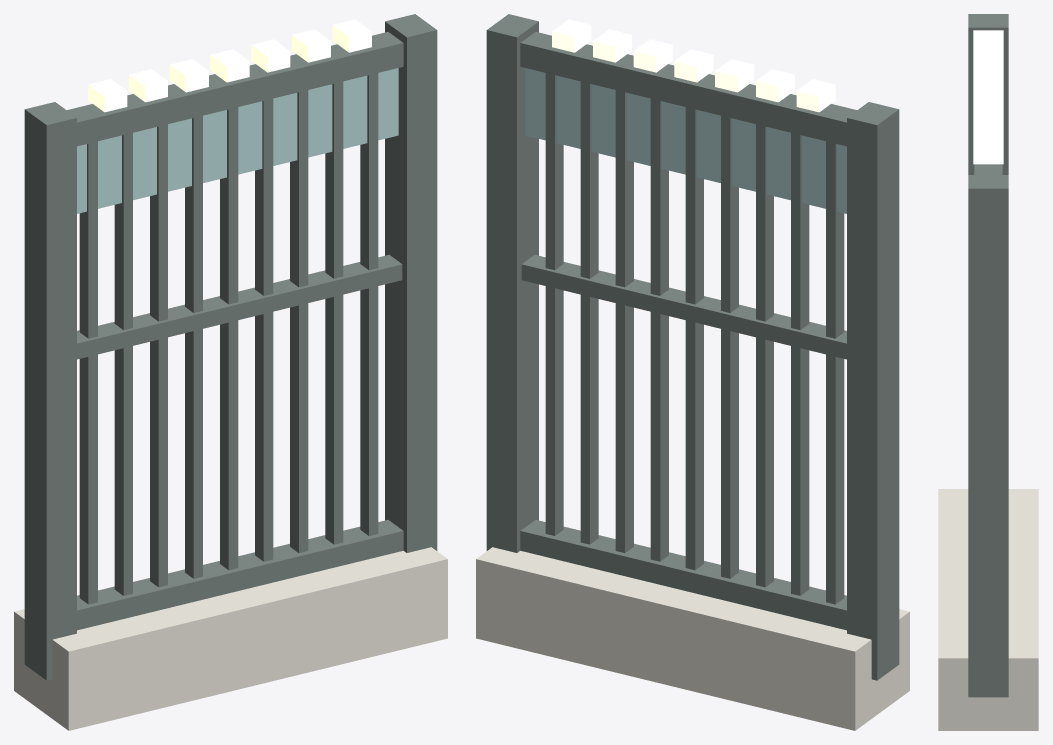
File: Fence_Straight_2m.fbx
3 views of the same model, side by side, from view 1: azimuth 30°, elevation 25°; view 2: azimuth 150°, elevation 25°; view 3: azimuth 270°, elevation 25° (orthographic). The views are drawn at different scales.
Parts seen in each view (by area): view 1: Fence_Footing, Post_L, Post_R, Teal_Viewing_Strip, Rail_Top, Rail_Bot, Rail_Mid, Vertical_Bar_4, Vertical_Bar_6, Vertical_Bar_5, Vertical_Bar_7, Vertical_Bar_8 (+11 smaller); view 2: Fence_Footing, Post_L, Post_R, Teal_Viewing_Strip, Rail_Top, Rail_Bot, Rail_Mid, Vertical_Bar_4, Vertical_Bar_6, Vertical_Bar_5, Vertical_Bar_7, Vertical_Bar_8 (+11 smaller); view 3: Post_R, Fence_Footing, Post_L, Gold_Light_Cap_6, Gold_Light_Cap_0, Gold_Light_Cap_1, Gold_Light_Cap_2, Gold_Light_Cap_4, Gold_Light_Cap_5, Gold_Light_Cap_3, Rail_Top.
Boxes of the visible parts, box(x1,y1,x2,y2) form: Fence_Footing: box(14, 547, 447, 730); Post_L: box(24, 102, 76, 680); Post_R: box(385, 14, 437, 552); Teal_Viewing_Strip: box(77, 68, 398, 213); Rail_Top: box(67, 32, 403, 146); Rail_Bot: box(77, 520, 403, 630); Rail_Mid: box(77, 254, 402, 359); Vertical_Bar_4: box(220, 107, 238, 570); Vertical_Bar_6: box(290, 90, 308, 552); Vertical_Bar_5: box(255, 98, 273, 561); Vertical_Bar_7: box(325, 81, 343, 544); Vertical_Bar_8: box(360, 73, 378, 535); Fence_Footing: box(476, 547, 909, 730); Post_L: box(847, 102, 899, 680); Post_R: box(486, 14, 538, 552); Teal_Viewing_Strip: box(525, 68, 846, 213); Rail_Top: box(520, 32, 856, 146); Rail_Bot: box(520, 520, 846, 630); Rail_Mid: box(521, 254, 846, 359); Vertical_Bar_4: box(685, 107, 703, 570); Vertical_Bar_6: box(615, 90, 633, 552); Vertical_Bar_5: box(650, 98, 668, 561); Vertical_Bar_7: box(580, 81, 598, 544); Vertical_Bar_8: box(545, 73, 563, 535); Post_R: box(968, 175, 1008, 697); Fence_Footing: box(938, 489, 1038, 730); Post_L: box(968, 14, 1008, 174); Gold_Light_Cap_6: box(973, 139, 1003, 164); Gold_Light_Cap_0: box(973, 30, 1003, 48); Gold_Light_Cap_1: box(973, 48, 1003, 66); Gold_Light_Cap_2: box(973, 66, 1003, 84); Gold_Light_Cap_4: box(973, 103, 1003, 121); Gold_Light_Cap_5: box(973, 121, 1003, 139); Gold_Light_Cap_3: box(973, 85, 1003, 102); Rail_Top: box(974, 164, 1002, 174).
Size of the model in its own units: 206 by 306 by 50.
